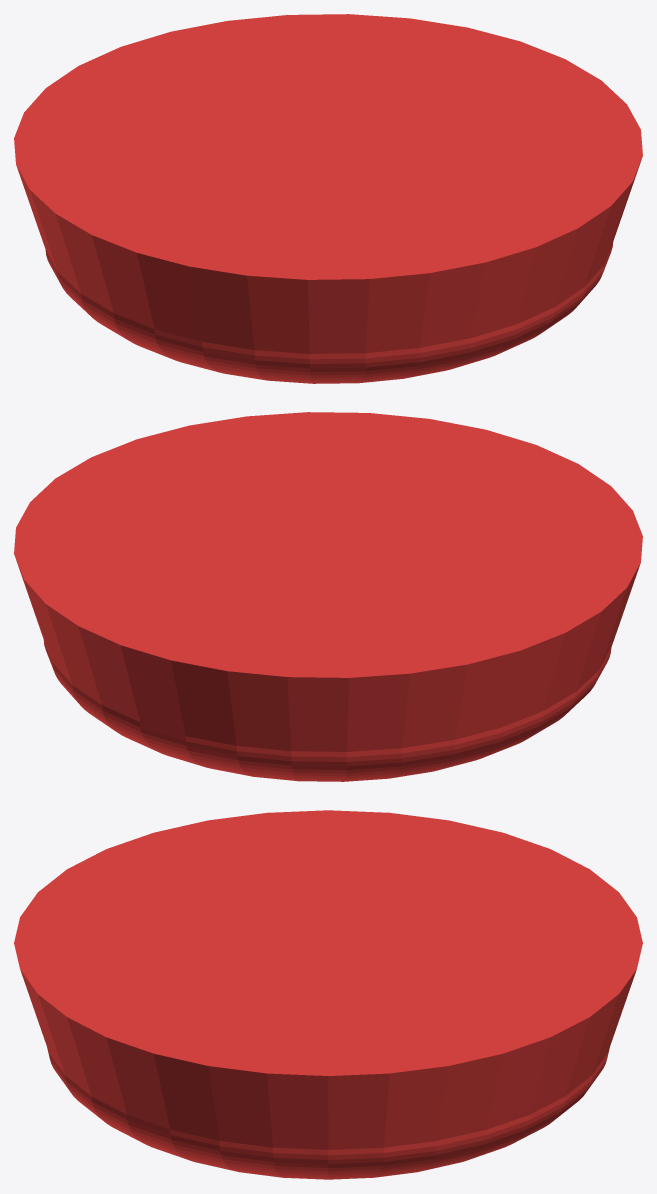
File: sara.fbx
3 renders of one model, top to bottom at view 1: azimuth 30°, elevation 25°; view 2: azimuth 150°, elevation 25°; view 3: azimuth 270°, elevation 25°, orthographic.
Parts seen in each view (by area): view 1: 円柱, 円柱.002; view 2: 円柱; view 3: 円柱, 円柱.002.
Part boxes in pixels (box(x1,y1,x2,y2)): 円柱: box(14, 14, 642, 383); 円柱.002: box(584, 205, 625, 286); 円柱: box(14, 412, 642, 781); 円柱: box(14, 810, 642, 1179); 円柱.002: box(80, 1059, 169, 1129).
Size of the model in its own units: 221 by 54.53 by 221.
